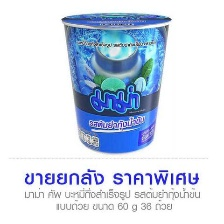paper_cup: (55, 7, 175, 158)
